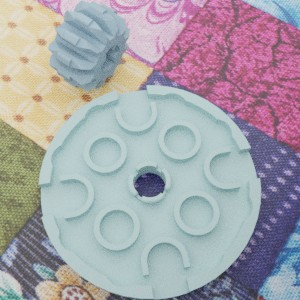lego: (38, 85, 261, 300), (47, 0, 129, 91)
